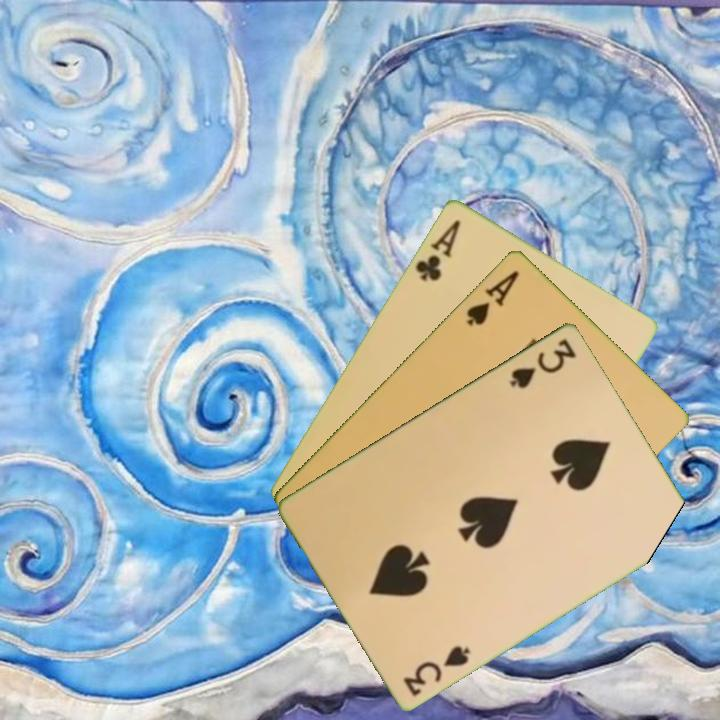3s: (400, 641, 474, 699), (506, 334, 579, 391)
Ac: (411, 214, 464, 284)
As: (463, 266, 523, 328)
